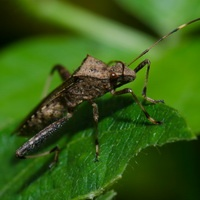insect: (14, 18, 199, 160)
